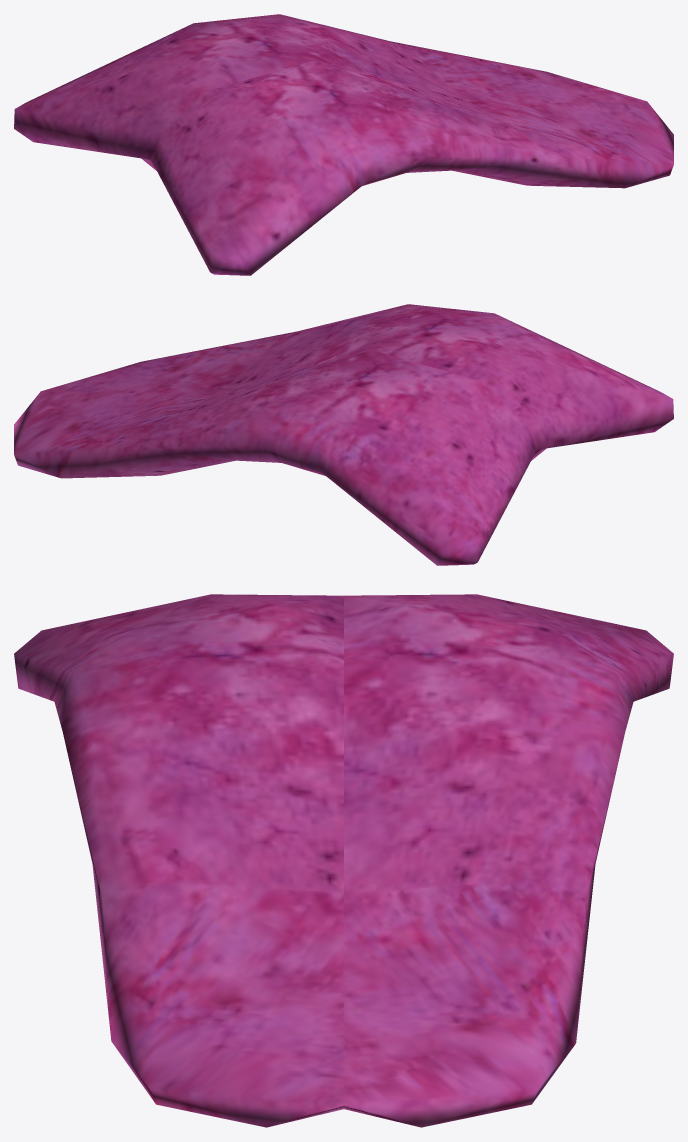
The model's file is Soft_Palate.glb.
3 renders of one model, top to bottom at view 1: azimuth 30°, elevation 25°; view 2: azimuth 150°, elevation 25°; view 3: azimuth 270°, elevation 25°, orthographic. The views are drawn at different scales.
Parts seen in each view (by area): view 1: Soft_Palate; view 2: Soft_Palate; view 3: Soft_Palate.
Part boxes in pixels (<box>): Soft_Palate: <box>14,14,673,275</box>; Soft_Palate: <box>14,304,673,565</box>; Soft_Palate: <box>14,594,673,1127</box>.
Bounding box in the file's own units: 0.1219 × 0.0339 × 0.0851.
1 material, 1 textured.
